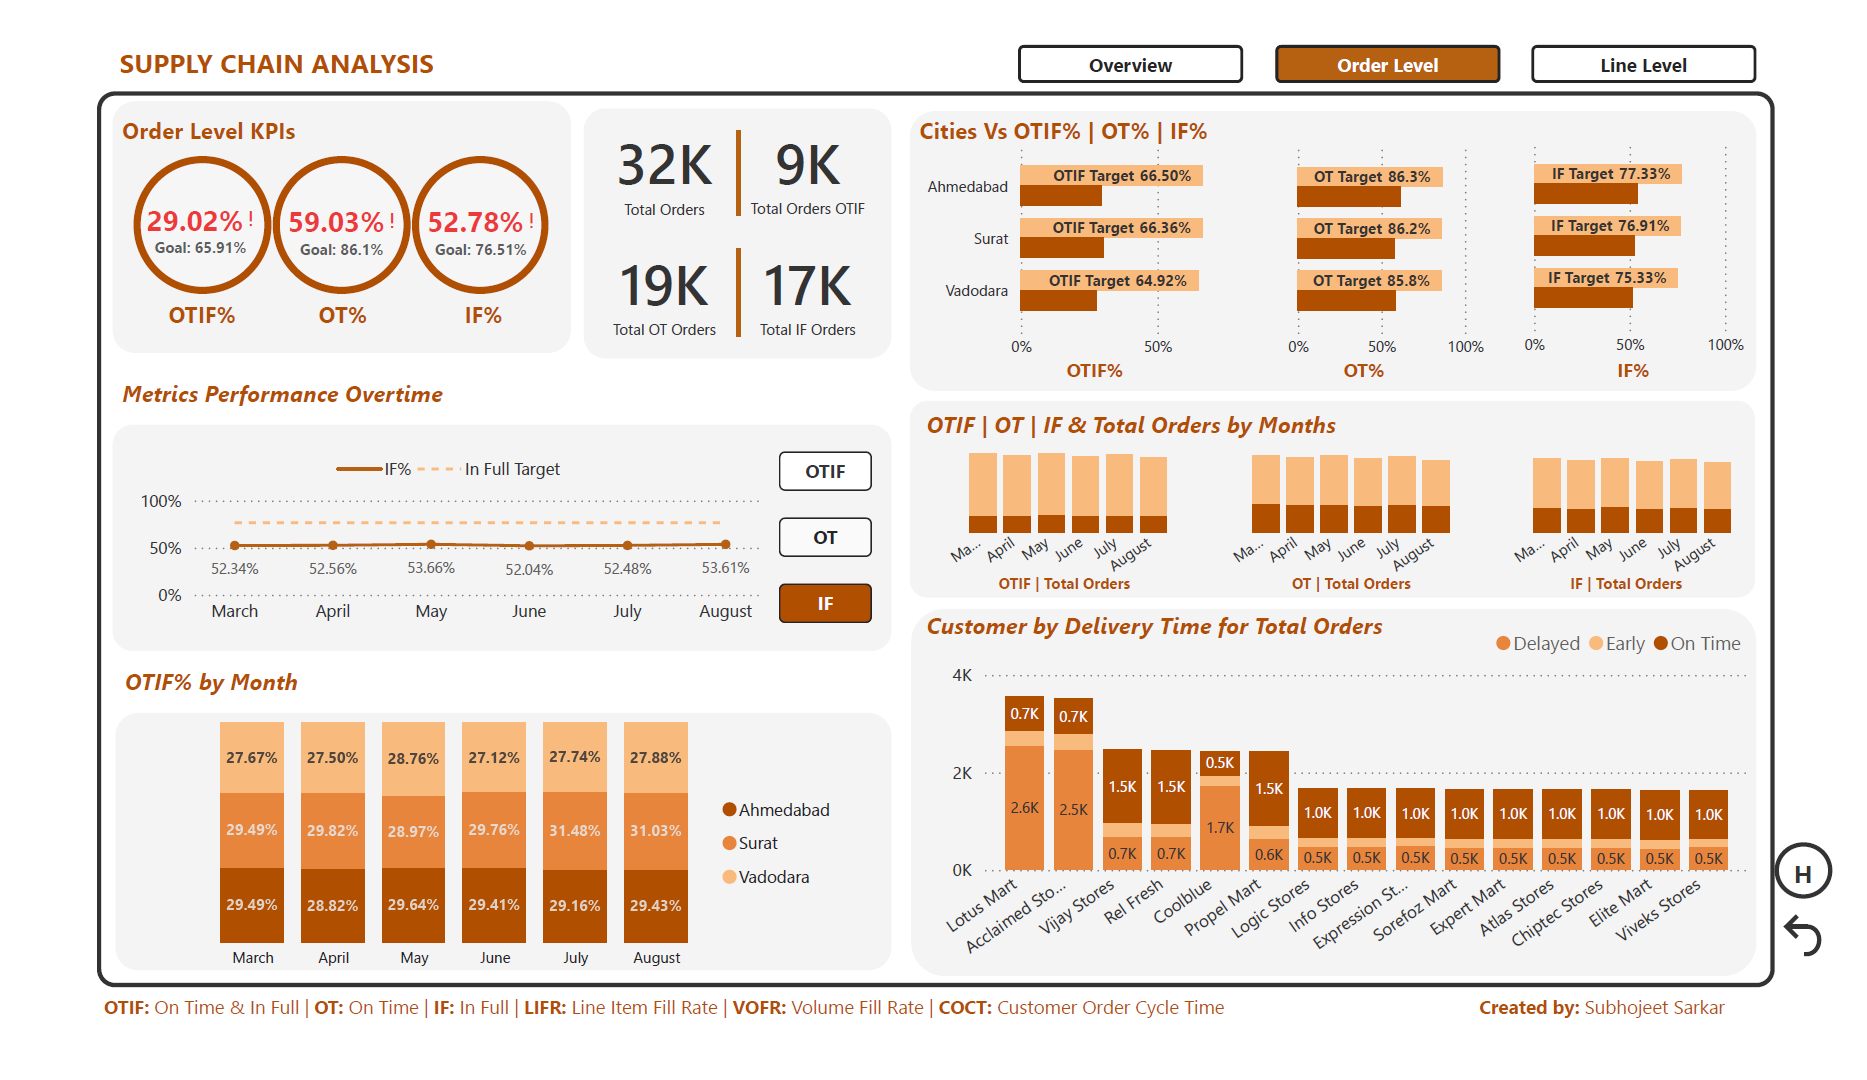

This screenshot's page, from the dashboard's own definition file:
{"tool":"powerbi","page":{"name":"Order Level","canvas":[1280,720],"ordinal":3},"visuals":[{"type":"shape","box":[45,41.2,1192.5,636.2],"z":0},{"type":"lineChart","title":"IF% Chart","fields":{"Category":["dim_date.date.Variation.Date Hierarchy.Quarter","dim_date.date.Variation.Date Hierarchy.Month"],"Y":["Measure Table.IF%","Measure Table.In Full Target"]},"box":[70,290.4,455,138.8],"z":0,"group":"g1"},{"type":"shape","box":[56.2,277.5,553.8,161.2],"z":1000},{"type":"actionButton","title":"OTIF Button","box":[530,297.6,66.2,27.5],"z":1000,"group":"g1"},{"type":"shape","box":[622.5,261.2,601.2,140],"z":2000},{"type":"actionButton","title":"OT Button","box":[530,344.6,66.2,27.5],"z":2000,"group":"g1"},{"type":"shape","box":[622.5,55,602.5,198.8],"z":3000},{"type":"actionButton","title":"IF Button","box":[530,391.6,66.2,27.5],"z":3000,"group":"g1"},{"type":"shape","box":[57.5,482.5,552.5,183.8],"z":4000},{"type":"shape","box":[623.8,408.8,601.2,261.2],"z":5000},{"type":"shape","box":[391.2,52.5,218.8,178.8],"z":6000},{"type":"shape","box":[56.2,48.3,326.2,178.8],"z":7000},{"type":"clusteredBarChart","fields":{"Category":["dim_customers.city"],"Y":["Measure Table.On Time In Full Target","Measure Table.OTIF%"]},"box":[626.2,66.2,260,173.8],"z":8000},{"type":"clusteredBarChart","fields":{"Category":["dim_customers.city"],"Y":["Measure Table.On Time Target","Measure Table.OT%"]},"box":[886.3,67,167.5,172.5],"z":9000},{"type":"clusteredBarChart","fields":{"Category":["dim_customers.city"],"Y":["Measure Table.In Full Target","Measure Table.IF%"]},"box":[1053.8,65.4,167.5,172.5],"z":10000},{"type":"columnChart","fields":{"Category":["dim_date.date.Variation.Date Hierarchy.Month"],"Y":["Measure Table.Total OTIF Orders","Measure Table.Total Orders"]},"box":[643.2,275.6,178,119.8],"z":11000},{"type":"columnChart","fields":{"Category":["dim_date.date.Variation.Date Hierarchy.Month"],"Y":["Measure Table.Total OT Orders","Measure Table.Total Orders"]},"box":[843.8,276.8,178,118.6],"z":12000},{"type":"columnChart","fields":{"Category":["dim_date.date.Variation.Date Hierarchy.Month"],"Y":["Measure Table.Total IF Orders","Measure Table.Total Orders"]},"box":[1044.3,276.8,178,118.6],"z":13000},{"type":"lineStackedColumnComboChart","fields":{"Category":["dim_customers.customer_name"],"Series":["fact_order_lines.Delay_Category"],"Y":["Measure Table.Total Orders (lines)"]},"box":[628.9,413.5,595,255],"z":14000},{"type":"kpi","fields":{"TrendLine":["fact_order_lines.agreed_delivery_date"],"Indicator":["Measure Table.OTIF%"],"Goal":["Measure Table.On Time In Full Target"]},"box":[71.2,105.9,97.5,63.8],"z":15000},{"type":"kpi","fields":{"TrendLine":["fact_order_lines.agreed_delivery_date"],"Indicator":["Measure Table.OT%"],"Goal":["Measure Table.On Time Target"]},"box":[171.5,106.7,97,63],"z":16000},{"type":"kpi","fields":{"TrendLine":["fact_order_lines.agreed_delivery_date"],"Indicator":["Measure Table.IF%"],"Goal":["Measure Table.In Full Target"]},"box":[271.2,106.7,97,63],"z":17000},{"type":"shape","box":[71.2,86.5,97.5,98.8],"z":18000},{"type":"shape","box":[170,86.5,97.5,98.8],"z":19000},{"type":"shape","box":[268.8,86.5,97.5,98.8],"z":20000},{"type":"card","fields":{"Values":["Measure Table.Total Orders"]},"box":[397.7,59.5,101.2,77.5],"z":21000},{"type":"card","fields":{"Values":["Measure Table.Total OTIF Orders"]},"box":[500,59.5,101,77],"z":22000},{"type":"card","fields":{"Values":["Measure Table.Total OT Orders"]},"box":[397.7,144.7,101.2,77.5],"z":23000},{"type":"card","fields":{"Values":["Measure Table.Total IF Orders"]},"box":[500,144.7,101.2,77.5],"z":24000},{"type":"hundredPercentStackedColumnChart","fields":{"Category":["dim_date.date.Variation.Date Hierarchy.Month"],"Series":["dim_customers.city"],"Y":["Measure Table.OTIF%"]},"box":[104.8,476.3,476.2,197.5],"z":25000},{"type":"shape","box":[478.8,68.8,43.8,60],"z":26000},{"type":"shape","box":[478.8,152.5,43.8,62.5],"z":27000},{"type":"textbox","box":[45,677.5,832.5,37.5],"z":28000},{"type":"textbox","box":[1022.5,677.5,220,37.5],"z":29000},{"type":"actionButton","box":[700,7.5,160,27.5],"z":30000},{"type":"actionButton","box":[882.5,7.5,160,27.5],"z":31000},{"type":"actionButton","box":[1065,7.5,160,27.5],"z":32000},{"type":"textbox","box":[57.5,52.5,188.8,37.5],"z":33000},{"type":"textbox","box":[80,183.8,80,37.5],"z":34000},{"type":"textbox","box":[180,183.8,80,37.5],"z":35000},{"type":"textbox","box":[280,183.8,80,37.5],"z":36000},{"type":"textbox","box":[57.5,240,300,37.5],"z":37000},{"type":"textbox","box":[60,445,300,37.5],"z":38000},{"type":"textbox","box":[625,52.5,300,36.2],"z":39000},{"type":"textbox","box":[630,261.8,348.8,31.2],"z":40000},{"type":"textbox","box":[726.2,225,57,28.8],"z":41000},{"type":"textbox","box":[917.2,225,57.5,28.8],"z":42000},{"type":"textbox","box":[1108.8,225,57.5,28.8],"z":43000},{"type":"textbox","box":[630,405,378.8,33.8],"z":44000},{"type":"textbox","box":[672.5,376.5,120,28.8],"z":45000},{"type":"textbox","box":[881.2,376.5,111.2,28.8],"z":46000},{"type":"textbox","box":[1081.2,376.5,102.5,28.8],"z":47000},{"type":"actionButton","box":[1237.5,621.2,42.5,40],"z":48000},{"type":"actionButton","box":[1237.5,575,41.2,40],"z":49000},{"type":"group","id":"g1","title":"IF","box":[70,290.4,526.2,138.8],"z":52000},{"type":"textbox","box":[56.2,2.5,300,36.2],"z":53000}]}

Visuals, with their boxes in screenshot pixels (x1, y1, x2, y2), scaled from the page's 1280x720 canvas onto the 1867x1080 screenshot:
shape: <box>66,62,1805,1016</box>
"IF% Chart" lineChart: <box>102,436,766,644</box>
shape: <box>82,416,890,658</box>
"OTIF Button" actionButton: <box>773,446,870,488</box>
shape: <box>908,392,1785,602</box>
"OT Button" actionButton: <box>773,517,870,558</box>
shape: <box>908,82,1787,381</box>
"IF Button" actionButton: <box>773,587,870,629</box>
shape: <box>84,724,890,999</box>
shape: <box>910,613,1787,1005</box>
shape: <box>571,79,890,347</box>
shape: <box>82,72,558,341</box>
clusteredBarChart - dim_customers.city x Measure Table.On Time In Full Target: <box>913,99,1293,360</box>
clusteredBarChart - dim_customers.city x Measure Table.On Time Target: <box>1293,100,1537,359</box>
clusteredBarChart - dim_customers.city x Measure Table.In Full Target: <box>1537,98,1781,357</box>
columnChart - dim_date.date.Variation.Date Hierarchy.Month x Measure Table.Total OTIF Orders: <box>938,413,1198,593</box>
columnChart - dim_date.date.Variation.Date Hierarchy.Month x Measure Table.Total OT Orders: <box>1231,415,1490,593</box>
columnChart - dim_date.date.Variation.Date Hierarchy.Month x Measure Table.Total IF Orders: <box>1523,415,1783,593</box>
lineStackedColumnComboChart - dim_customers.customer_name x fact_order_lines.Delay_Category: <box>917,620,1785,1003</box>
kpi - fact_order_lines.agreed_delivery_date x Measure Table.OTIF%: <box>104,159,246,255</box>
kpi - fact_order_lines.agreed_delivery_date x Measure Table.OT%: <box>250,160,392,255</box>
kpi - fact_order_lines.agreed_delivery_date x Measure Table.IF%: <box>396,160,537,255</box>
shape: <box>104,130,246,278</box>
shape: <box>248,130,390,278</box>
shape: <box>392,130,534,278</box>
card - Measure Table.Total Orders: <box>580,89,728,206</box>
card - Measure Table.Total OTIF Orders: <box>729,89,877,205</box>
card - Measure Table.Total OT Orders: <box>580,217,728,333</box>
card - Measure Table.Total IF Orders: <box>729,217,877,333</box>
hundredPercentStackedColumnChart - dim_date.date.Variation.Date Hierarchy.Month x dim_customers.city: <box>153,714,847,1011</box>
shape: <box>698,103,762,193</box>
shape: <box>698,229,762,322</box>
textbox: <box>66,1016,1280,1072</box>
textbox: <box>1491,1016,1812,1072</box>
actionButton: <box>1021,11,1254,52</box>
actionButton: <box>1287,11,1521,52</box>
actionButton: <box>1553,11,1787,52</box>
textbox: <box>84,79,359,135</box>
textbox: <box>117,276,233,332</box>
textbox: <box>263,276,379,332</box>
textbox: <box>408,276,525,332</box>
textbox: <box>84,360,521,416</box>
textbox: <box>88,668,525,724</box>
textbox: <box>912,79,1349,133</box>
textbox: <box>919,393,1428,440</box>
textbox: <box>1059,338,1142,381</box>
textbox: <box>1338,338,1422,381</box>
textbox: <box>1617,338,1701,381</box>
textbox: <box>919,608,1471,658</box>
textbox: <box>981,565,1156,608</box>
textbox: <box>1285,565,1448,608</box>
textbox: <box>1577,565,1727,608</box>
actionButton: <box>1805,932,1866,992</box>
actionButton: <box>1805,862,1865,922</box>
"IF" group: <box>102,436,870,644</box>
textbox: <box>82,4,520,58</box>
